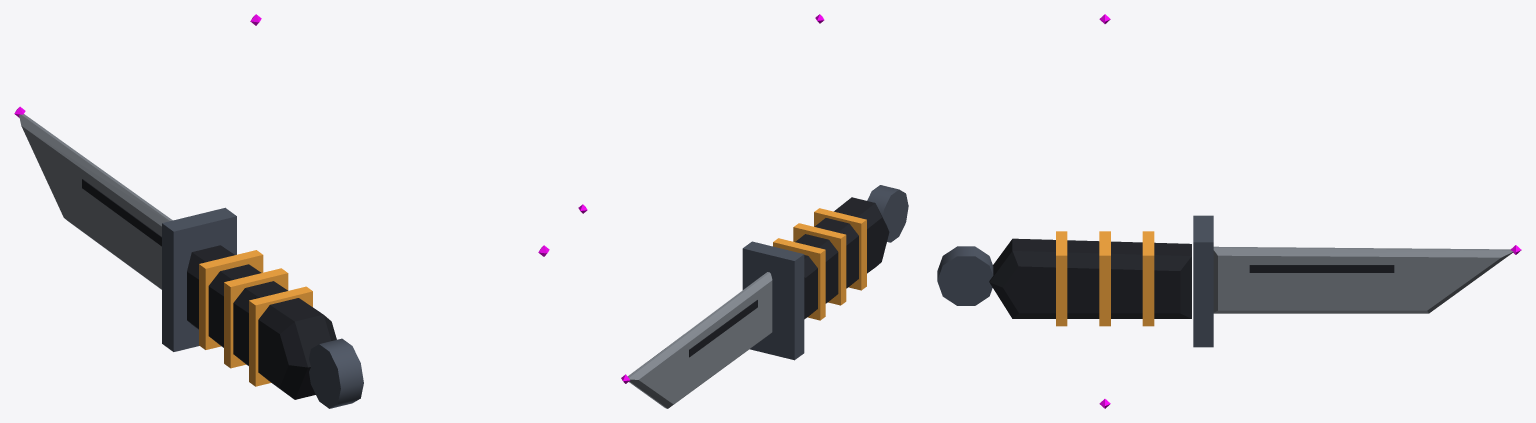
The model's file is Knife.glb.
3 renders of one model, left to right at view 1: azimuth 30°, elevation 25°; view 2: azimuth 150°, elevation 25°; view 3: azimuth 270°, elevation 25°, orthographic. The views are drawn at different scales.
Parts seen in each view (by area): view 1: Dark, Bare, Steel, Accent; view 2: Bare, Steel, Dark, Accent; view 3: Bare, Dark, Steel, Accent.
Part boxes in pixels (<box>): Dark: <box>82,179,336,399</box>; Bare: <box>19,114,172,289</box>; Steel: <box>162,207,363,408</box>; Accent: <box>199,250,312,386</box>; Bare: <box>628,272,772,408</box>; Steel: <box>742,185,908,360</box>; Dark: <box>689,197,889,357</box>; Accent: <box>773,208,866,320</box>; Bare: <box>1213,246,1513,313</box>; Dark: <box>989,238,1394,318</box>; Steel: <box>937,215,1213,347</box>; Accent: <box>1056,231,1154,326</box>.
Size of the model in its own units: 1.13 by 1.22 by 2.02.
